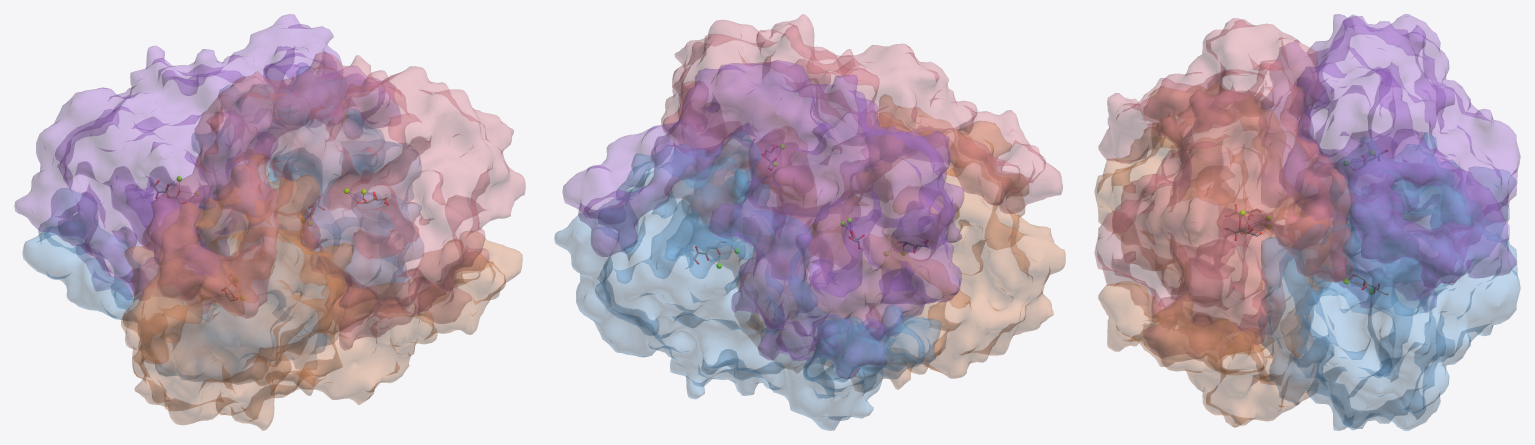
The model's file is enzym.glb.
3 views of the same model, side by side, from view 1: azimuth 30°, elevation 25°; view 2: azimuth 150°, elevation 25°; view 3: azimuth 270°, elevation 25° (orthographic). The views are drawn at different scales.
Visible parts, largest first — view 1: 1xyb A_A SES surface, 1xyb A_A SES surface.001, 1xyb B_B SES surface.001, 1xyb B_B SES surface; view 2: 1xyb B_B SES surface.001, 1xyb B_B SES surface, 1xyb A_A SES surface, 1xyb A_A SES surface.001; view 3: 1xyb A_A SES surface, 1xyb B_B SES surface, 1xyb B_B SES surface.001, 1xyb A_A SES surface.001.
Part boxes in pixels (box(x1,y1,x2,y2)): 1xyb A_A SES surface: box(141, 52, 525, 350); 1xyb A_A SES surface.001: box(121, 154, 522, 430); 1xyb B_B SES surface.001: box(14, 14, 400, 310); 1xyb B_B SES surface: box(22, 66, 423, 384); 1xyb B_B SES surface.001: box(562, 60, 963, 378); 1xyb B_B SES surface: box(554, 131, 940, 430); 1xyb A_A SES surface: box(661, 14, 1062, 280); 1xyb A_A SES surface.001: box(682, 94, 1065, 392); 1xyb A_A SES surface: box(1094, 18, 1354, 360); 1xyb B_B SES surface: box(1258, 132, 1520, 430); 1xyb B_B SES surface.001: box(1261, 14, 1520, 312); 1xyb A_A SES surface.001: box(1094, 82, 1335, 427).
Size of the model in its own units: 93.17 by 76.06 by 81.61.
